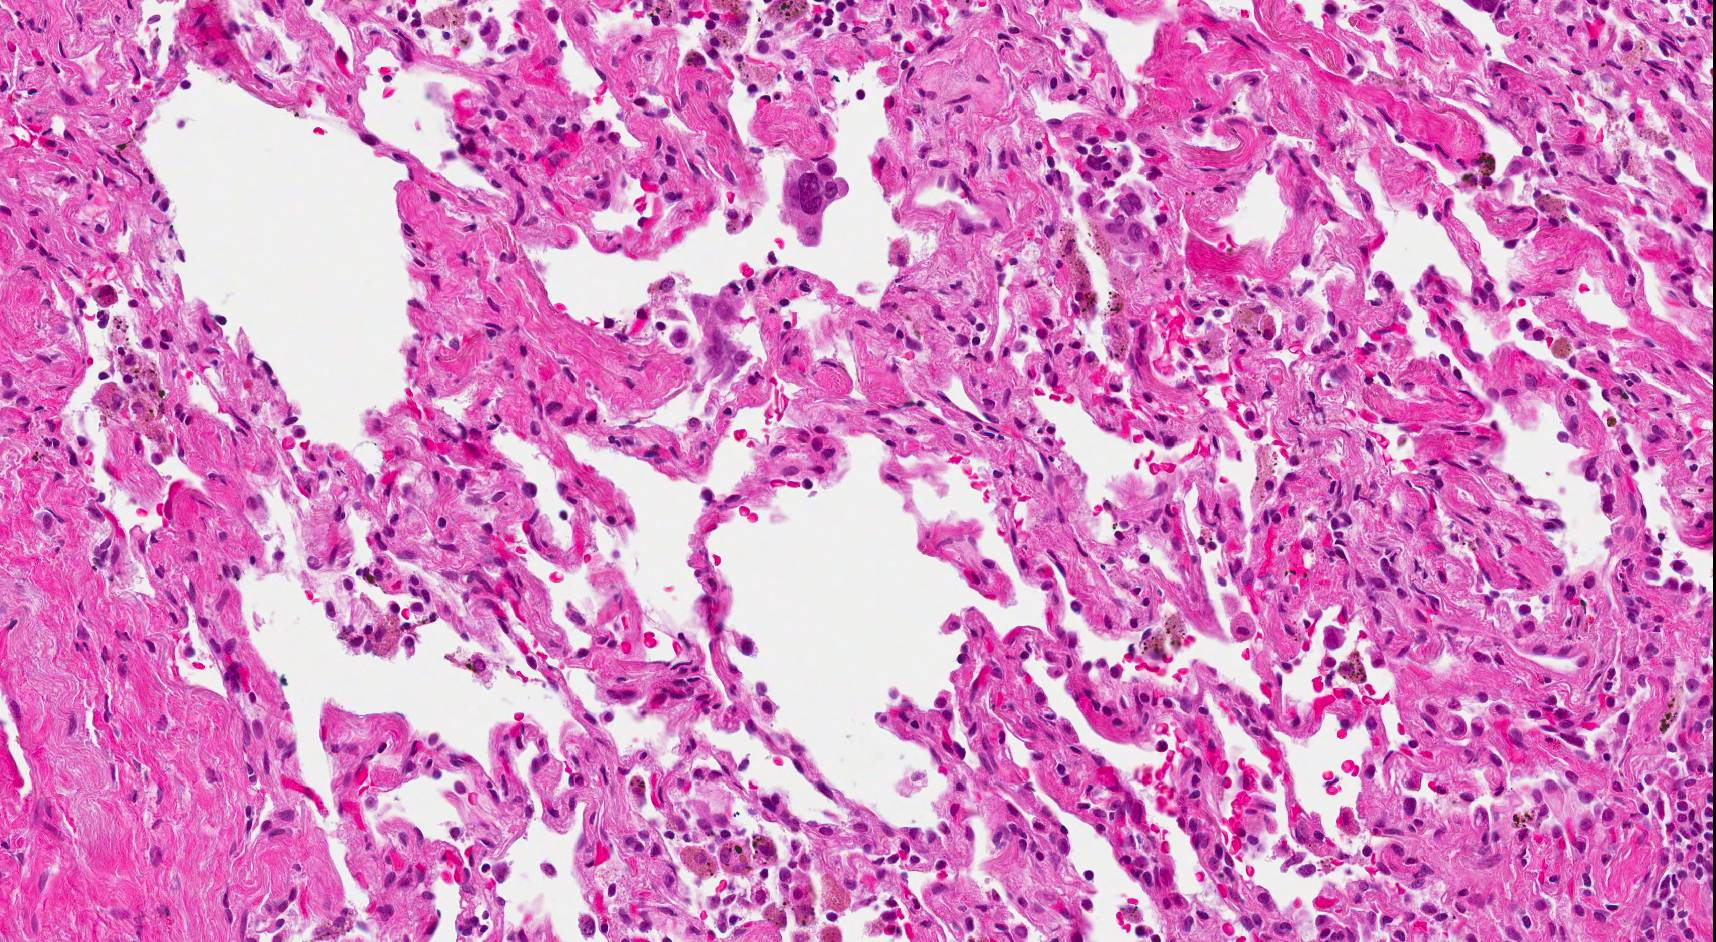stas: (668, 285, 751, 380), (782, 155, 850, 251)
